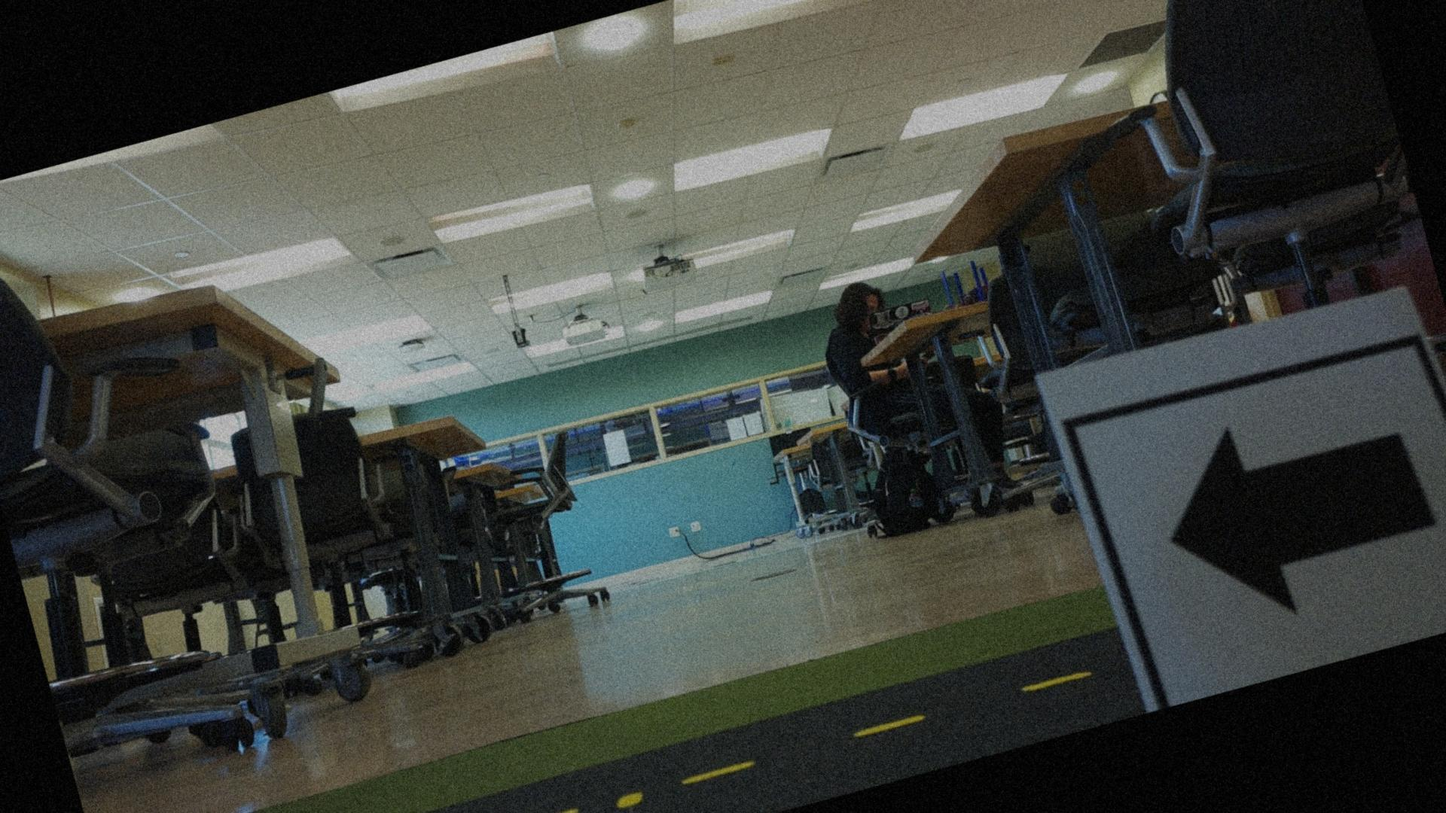turnright: (1075, 333, 1445, 711)
yellowline: (114, 662, 1094, 812), (589, 784, 664, 812)
